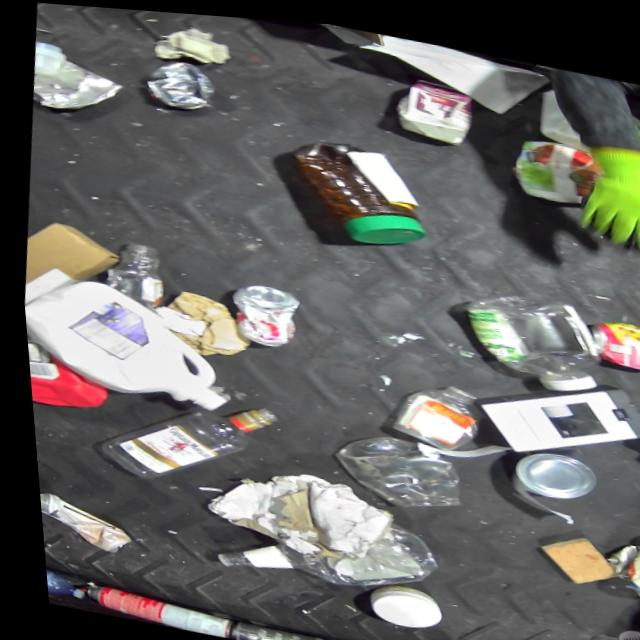can: (68, 580, 228, 637), (28, 52, 129, 119), (31, 489, 127, 555), (219, 274, 300, 348), (502, 436, 594, 497), (138, 48, 222, 113), (577, 306, 640, 365), (223, 616, 318, 640)
milk_jug: (17, 266, 236, 410)
non_white_jug: (21, 325, 110, 415)
plastic_bottle: (36, 557, 81, 601)
